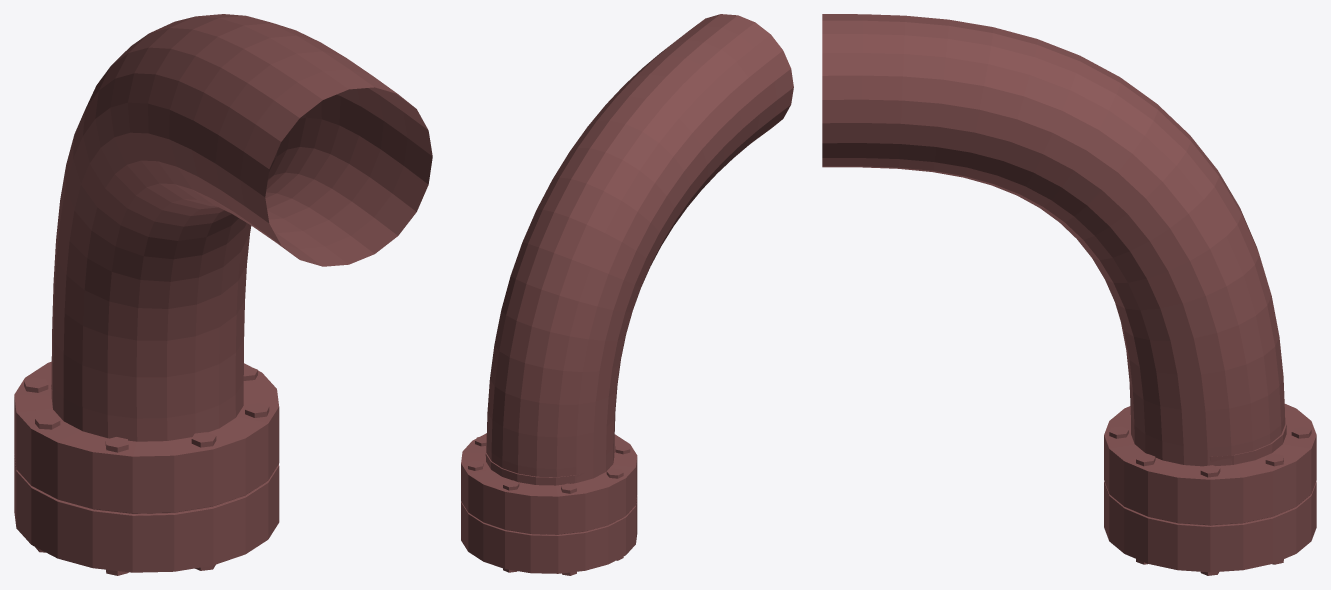
File: curvePipe.fbx
The picture shows the model from 3 angles, left to right: view 1: azimuth 30°, elevation 25°; view 2: azimuth 150°, elevation 25°; view 3: azimuth 270°, elevation 25°; orthographic projection. The views are drawn at different scales.
Parts seen in each view (by area): view 1: curvePipe; view 2: curvePipe; view 3: curvePipe.
Boxes of the visible parts, bbox=[...] form: curvePipe: bbox=[14, 14, 432, 575]; curvePipe: bbox=[461, 14, 793, 575]; curvePipe: bbox=[822, 14, 1316, 575].
Bounding box in the file's own units: 8.91 × 22.18 × 19.92.
